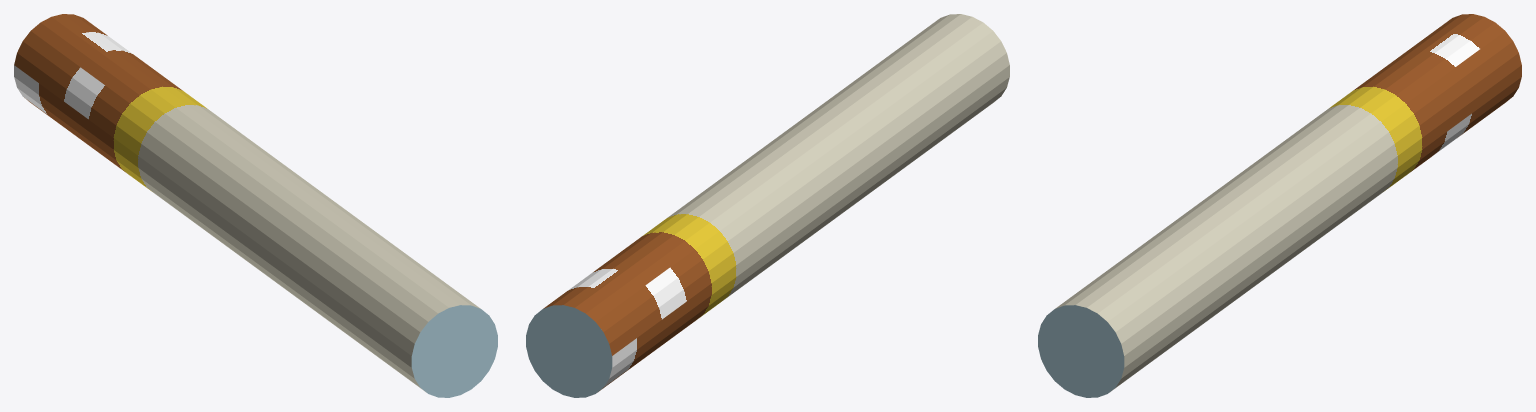
The model's file is cigarette.gltf.
The picture shows the model from 3 angles, left to right: view 1: azimuth 30°, elevation 25°; view 2: azimuth 150°, elevation 25°; view 3: azimuth 330°, elevation 25°; orthographic projection.
Parts seen in each view (by area): view 1: tube; view 2: tube; view 3: tube.
Part boxes in pixels (left/top/right/bottom): tube: left=14, top=14, right=497, bottom=397; tube: left=526, top=14, right=1009, bottom=397; tube: left=1038, top=14, right=1521, bottom=397.
Size of the model in its own units: 0.0625 by 0.0625 by 0.5.
Materials: 1 (1 with a texture image).
